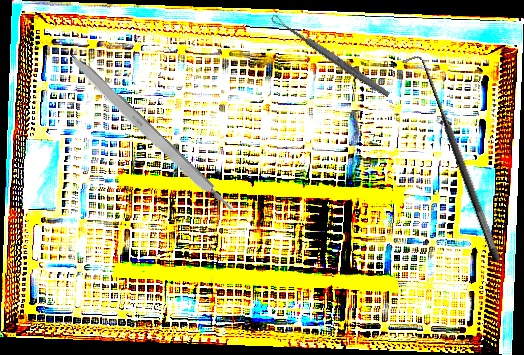Hook Surgical: (401, 51, 505, 268)
Scalpel Handle: (63, 49, 236, 218)
Surgical Spoon: (269, 13, 392, 99)
